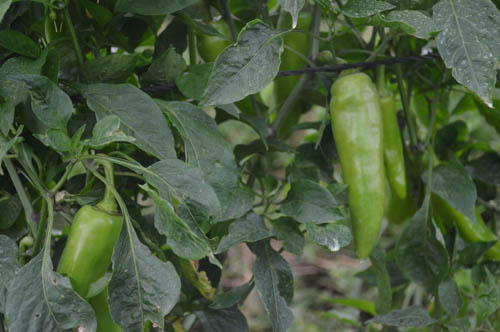ChiliPepper: (329, 74, 384, 262), (55, 206, 120, 297), (199, 24, 251, 113), (428, 178, 491, 245), (373, 91, 407, 200), (271, 33, 306, 133)
